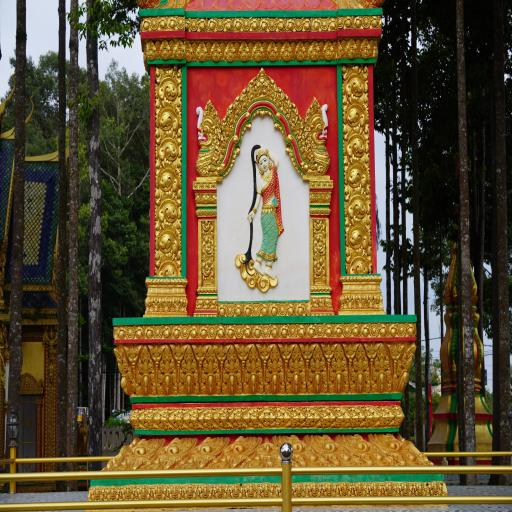than: (248, 147, 286, 289)
